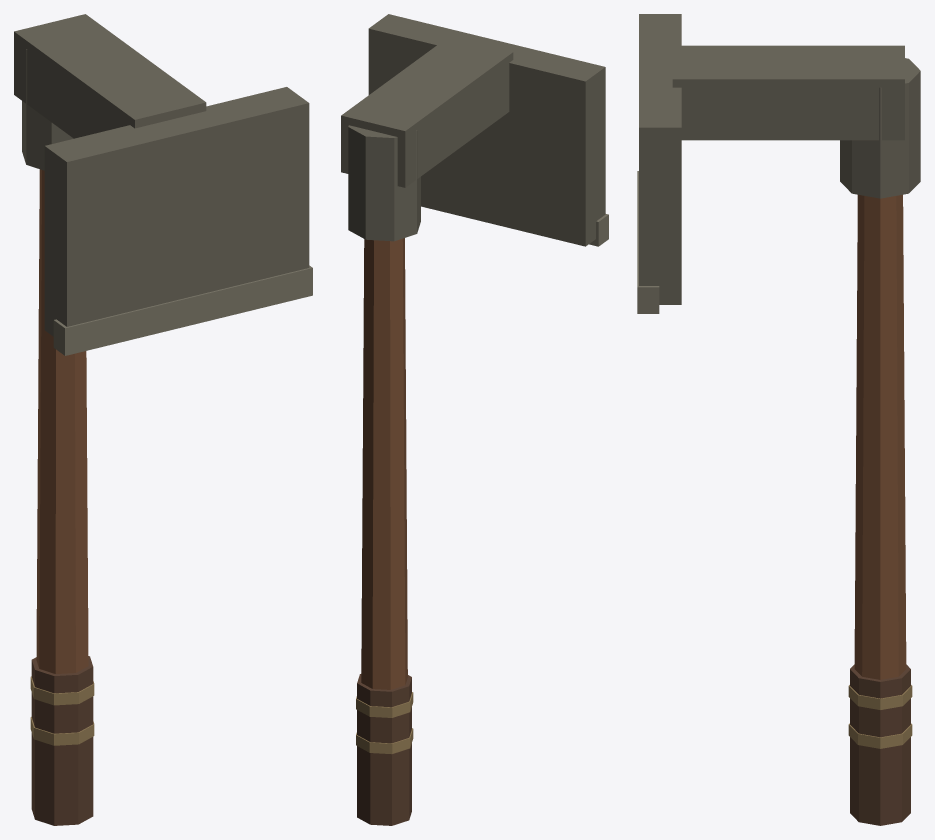
File: tool_hoe_base.glb
3 renders of one model, left to right at view 1: azimuth 30°, elevation 25°; view 2: azimuth 150°, elevation 25°; view 3: azimuth 270°, elevation 25°, orthographic. The views are drawn at different scales.
Parts seen in each view (by area): view 1: tool_hoe_base; view 2: tool_hoe_base; view 3: tool_hoe_base.
Part boxes in pixels (x1,y1,x2,y2): tool_hoe_base: [14, 14, 312, 825]; tool_hoe_base: [341, 14, 608, 825]; tool_hoe_base: [637, 14, 920, 825].
Size of the model in its own units: 0.225 by 0.6775 by 0.232.
